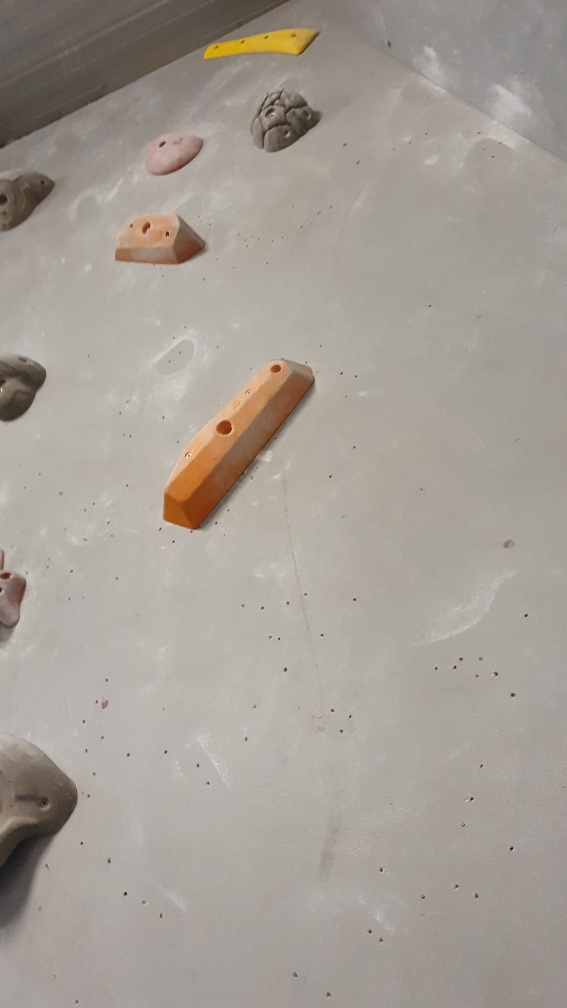Crimp: (200, 24, 322, 64)
Jug: (250, 88, 324, 153)
Pinch: (160, 355, 316, 530), (112, 208, 210, 271)
